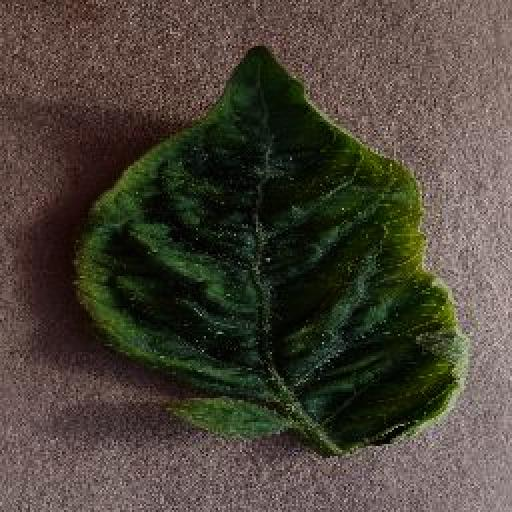disease_tomato: (68, 44, 466, 454)
